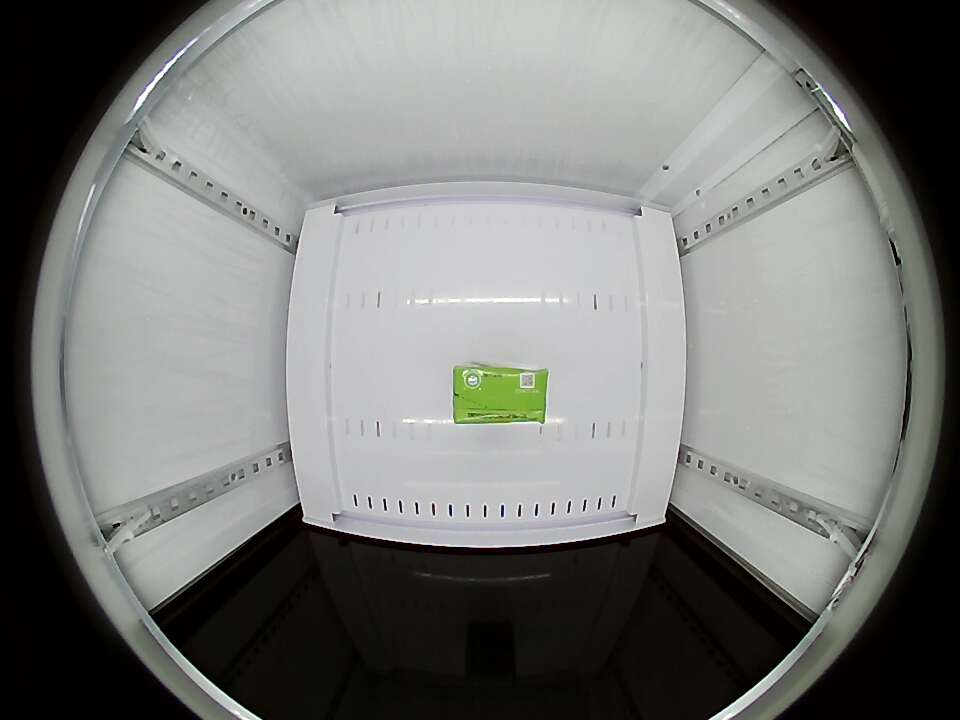mengniuzaocan: (453, 364, 548, 425)
